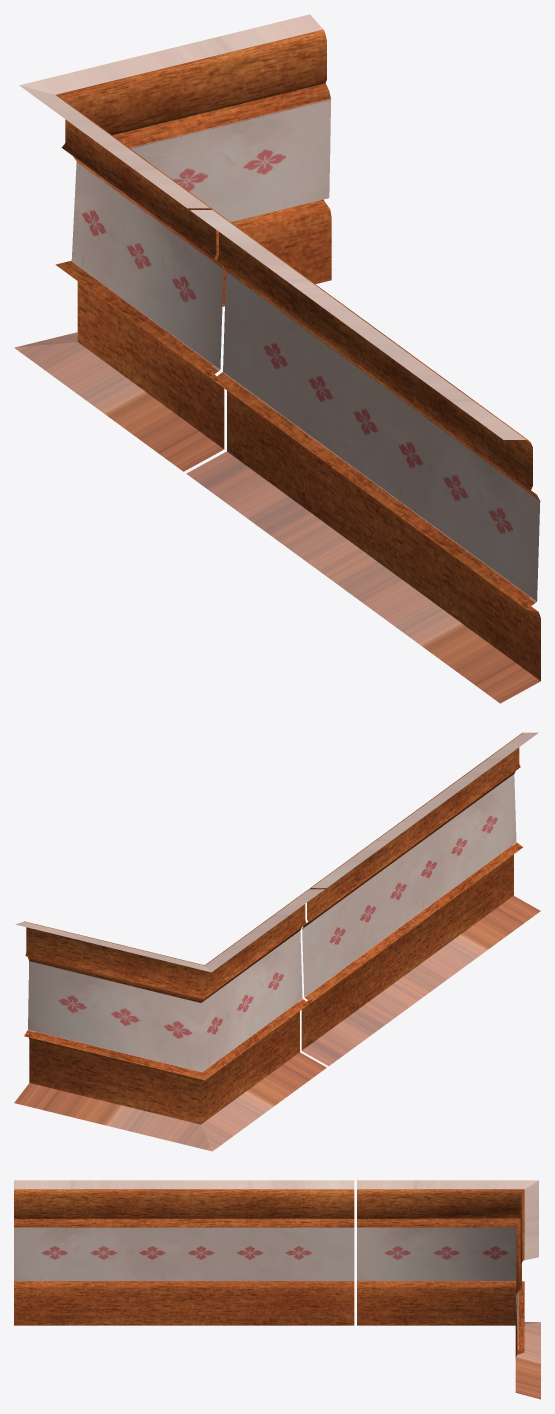
The model's file is interiorWallsBetween.fbx.
3 renders of one model, top to bottom at view 1: azimuth 30°, elevation 25°; view 2: azimuth 150°, elevation 25°; view 3: azimuth 270°, elevation 25°, orthographic. The views are drawn at different scales.
Parts seen in each view (by area): view 1: InteriorWall_normal001, InteriorWall_normal002; view 2: InteriorWall_normal002, InteriorWall_normal001; view 3: InteriorWall_normal001, InteriorWall_normal002.
Boxes of the visible parts, x1,y1,x2,y2 form: InteriorWall_normal001: (186,209,540,703); InteriorWall_normal002: (14,14,331,471); InteriorWall_normal002: (14,889,326,1151); InteriorWall_normal001: (301,732,540,1066); InteriorWall_normal001: (14,1180,354,1325); InteriorWall_normal002: (357,1180,540,1399).
Bounding box in the file's own units: 2.7 × 2.31 × 7.74.
